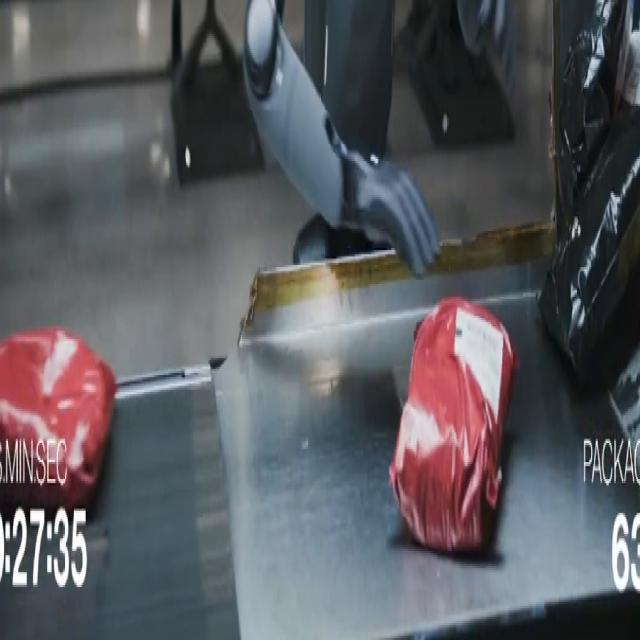package: (390, 299, 518, 553), (539, 109, 639, 385), (0, 329, 116, 510), (556, 0, 633, 239), (623, 30, 639, 105)
